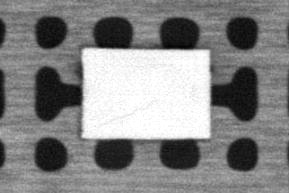DIE_CRACK: (102, 97, 161, 123)
